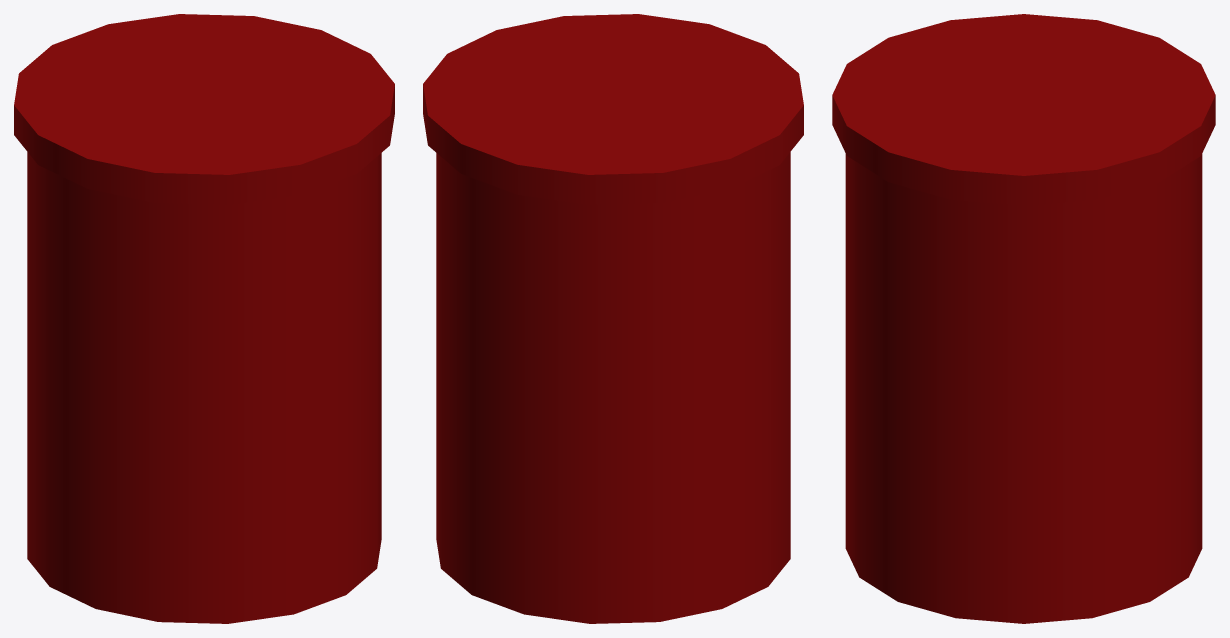
Rendered from TrahsBin2.fbx.
3 renders of one model, left to right at view 1: azimuth 30°, elevation 25°; view 2: azimuth 150°, elevation 25°; view 3: azimuth 270°, elevation 25°, orthographic.
Parts seen in each view (by area): view 1: pCylinder7, pCylinder9; view 2: pCylinder7, pCylinder9; view 3: pCylinder7, pCylinder9.
Boxes of the visible parts, <box> form: pCylinder7: <box>27,152,381,623</box>; pCylinder9: <box>14,14,394,204</box>; pCylinder7: <box>436,152,790,623</box>; pCylinder9: <box>423,14,803,204</box>; pCylinder7: <box>845,154,1202,623</box>; pCylinder9: <box>832,14,1215,205</box>.
Bounding box in the file's own units: 0.2688 × 0.3509 × 0.2688.
